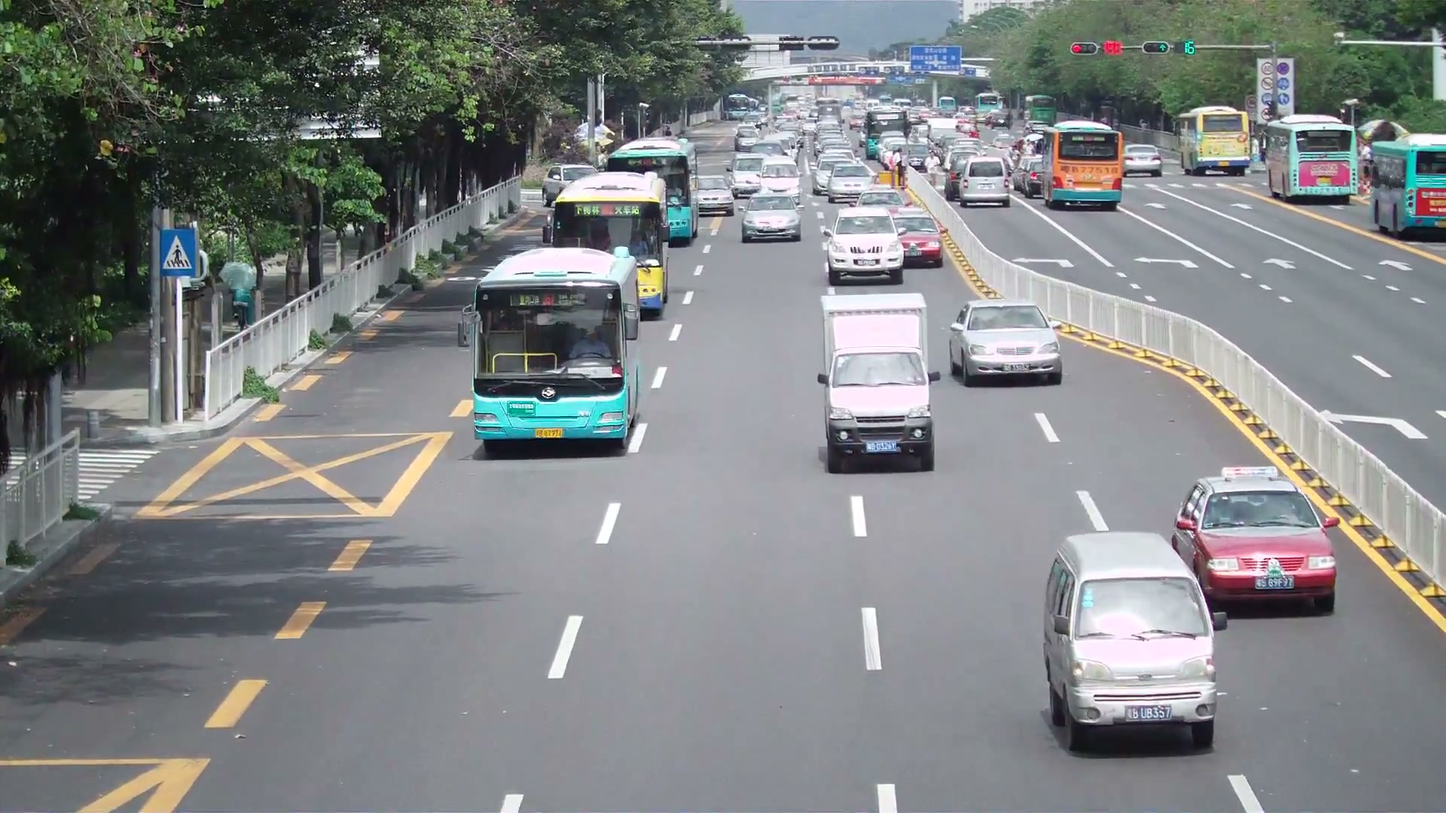bus: (467, 245, 646, 454), (546, 168, 668, 319), (611, 138, 697, 246), (1263, 113, 1359, 204), (1368, 132, 1445, 235), (1046, 119, 1125, 208), (1176, 106, 1252, 175)
car: (1041, 529, 1224, 755), (1171, 469, 1339, 615), (820, 348, 936, 473), (946, 300, 1064, 387), (824, 207, 905, 286), (956, 156, 1012, 210), (740, 194, 802, 242), (893, 213, 944, 268), (541, 162, 599, 208), (826, 161, 876, 201), (1124, 140, 1162, 177)
pedestrian: (568, 320, 614, 365)
